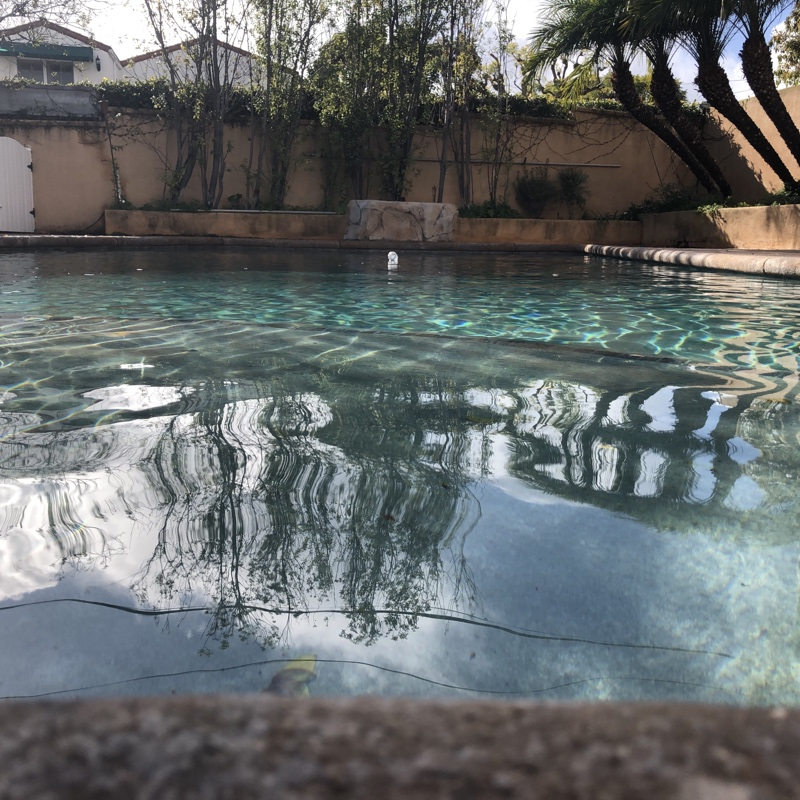Plastic Bottle: (385, 250, 400, 271)
